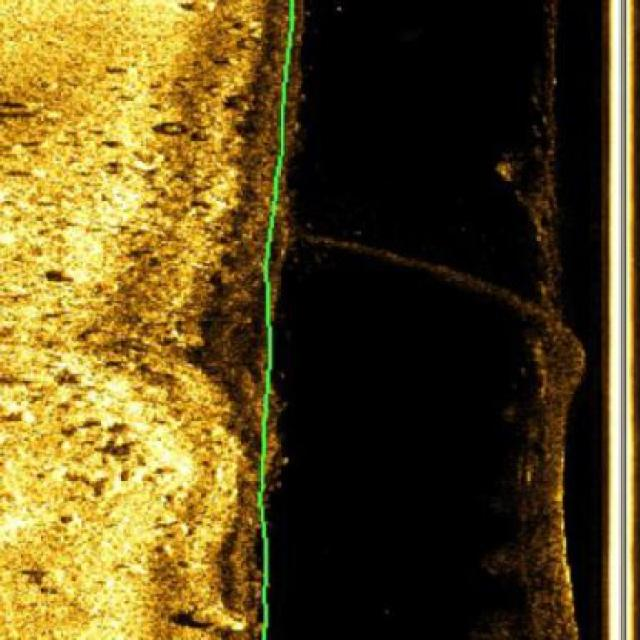bedrock group: (0, 14, 269, 638)
